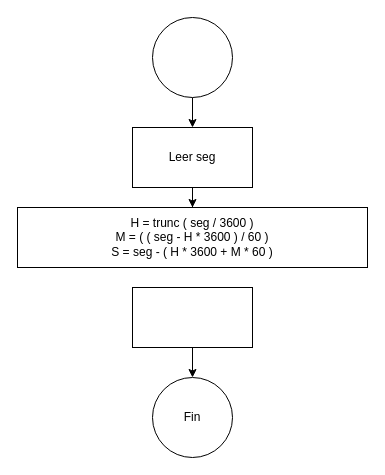
Some shapes in this 385 by 475 pixel diagram are drawn without their labels. Here are the shapes that lost their labels. From the top down, the centre of each, then its label:
(192,57): Inicio
(192,317): H, M, S
